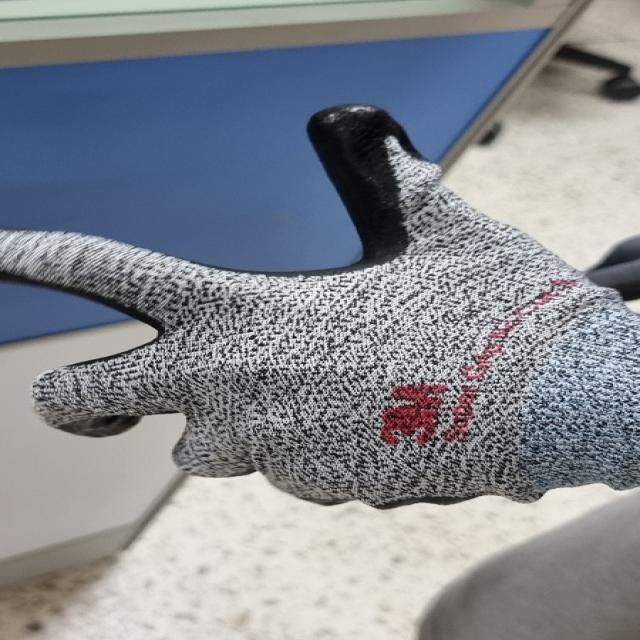Gloves: (0, 106, 620, 512)
